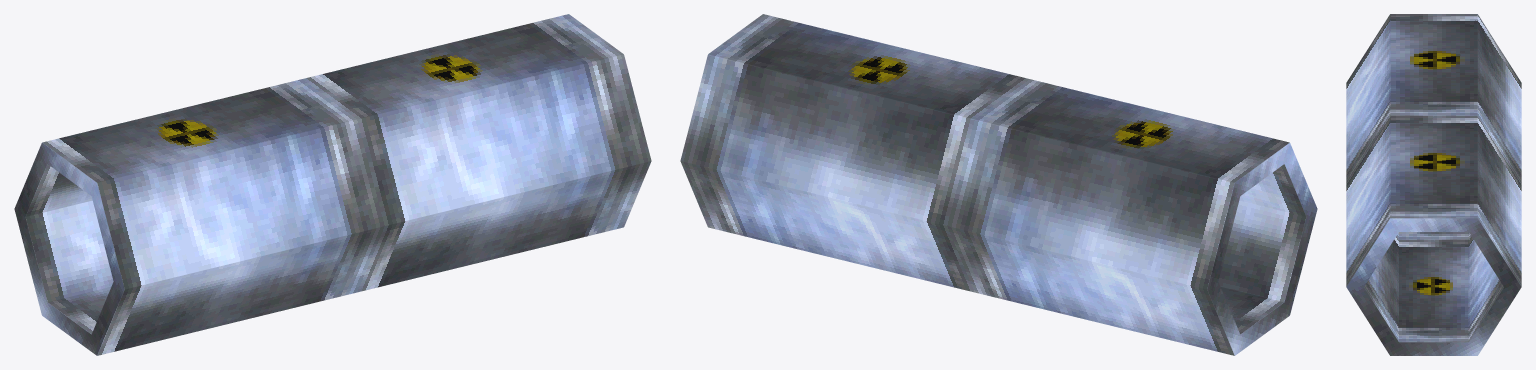
File: PIPE_01.glb
3 views of the same model, side by side, from view 1: azimuth 30°, elevation 25°; view 2: azimuth 150°, elevation 25°; view 3: azimuth 270°, elevation 25° (orthographic). The views are drawn at different scales.
Parts seen in each view (by area): view 1: PIPE_01; view 2: PIPE_01; view 3: PIPE_01.
Part boxes in pixels (<box>): PIPE_01: <box>14,14,651,355</box>; PIPE_01: <box>680,14,1317,355</box>; PIPE_01: <box>1346,14,1521,355</box>.
Size of the model in its own units: 4222 by 1325 by 1530.
1 material, 1 textured.
